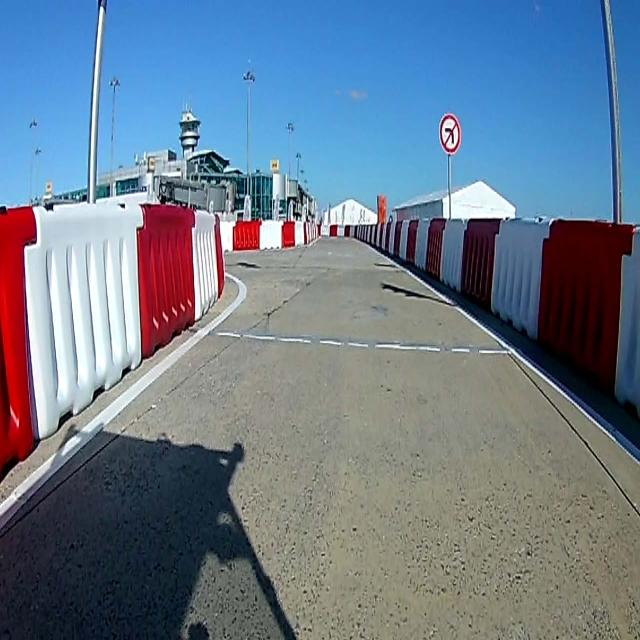soladonulmez: (439, 114, 462, 154)
